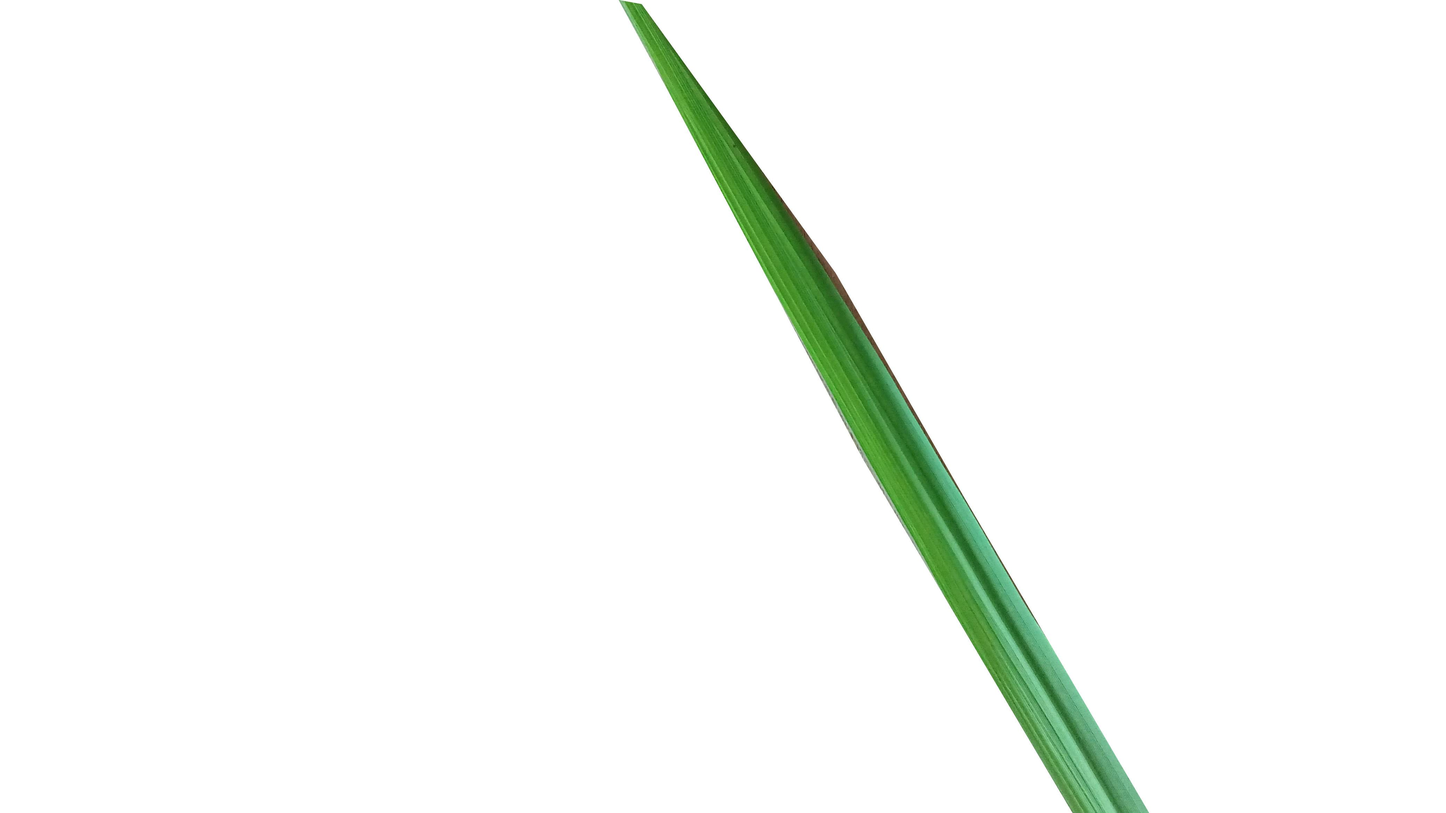Healthy: (621, 0, 1158, 813)
